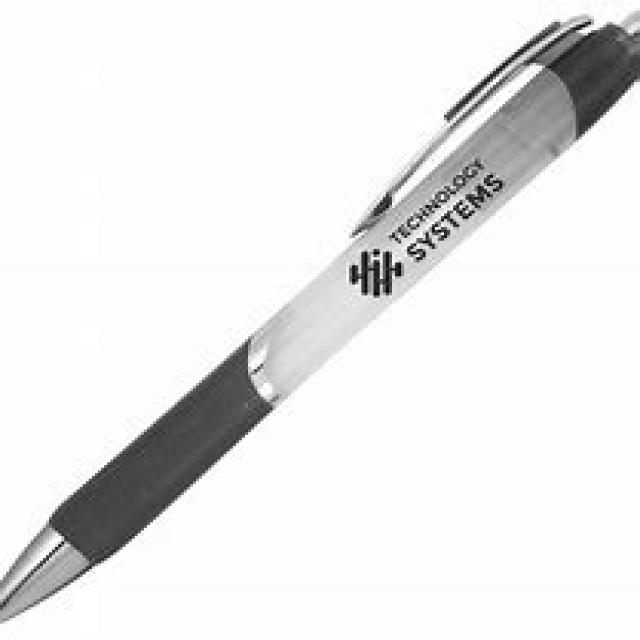pen: (0, 6, 640, 624)
